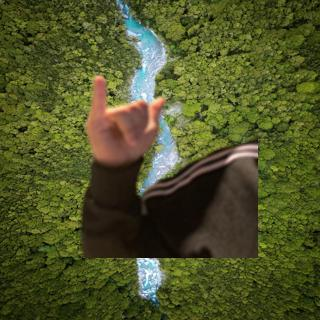HAVE: (76, 71, 172, 162)
